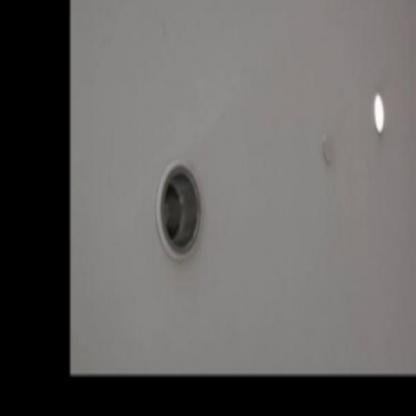light_off: (154, 137, 208, 272)
